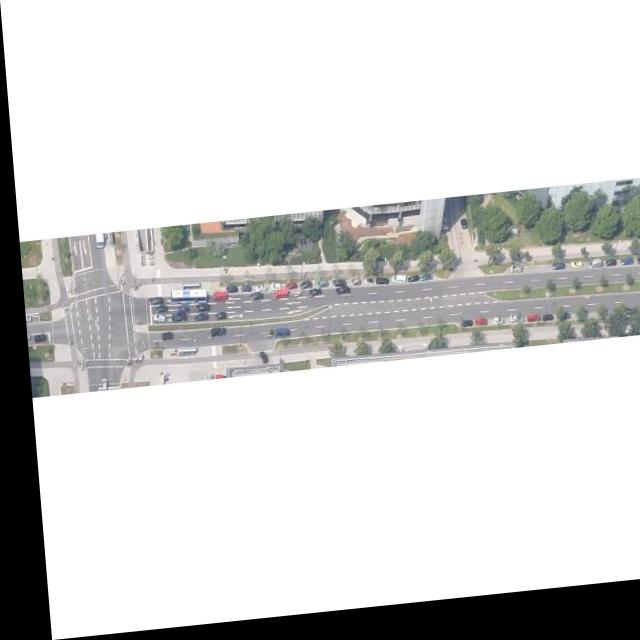vehicle: (503, 235, 515, 249), (166, 315, 181, 326), (208, 296, 223, 307), (582, 270, 597, 281), (386, 281, 401, 292), (503, 324, 518, 334), (205, 332, 221, 341), (189, 307, 205, 316), (28, 334, 42, 344), (267, 296, 282, 305), (302, 294, 317, 303), (329, 293, 344, 302), (148, 316, 161, 326), (294, 286, 307, 296), (253, 355, 262, 369), (143, 299, 157, 308), (326, 285, 340, 294), (370, 285, 385, 293), (310, 286, 322, 296), (270, 333, 283, 342), (189, 316, 202, 325), (244, 297, 257, 306), (455, 328, 468, 337), (280, 287, 292, 296), (504, 276, 517, 284), (266, 288, 277, 297), (156, 334, 167, 343), (565, 273, 577, 281), (250, 289, 262, 297), (521, 325, 534, 332), (546, 274, 559, 281), (414, 283, 427, 290), (150, 308, 161, 316), (210, 316, 221, 324), (536, 325, 547, 333), (615, 272, 627, 279), (236, 289, 246, 297), (469, 329, 480, 336), (485, 327, 496, 334), (403, 283, 414, 290), (95, 379, 101, 391), (359, 285, 368, 293), (173, 310, 183, 317), (601, 272, 611, 279), (222, 291, 232, 298), (631, 270, 640, 277), (456, 229, 462, 239), (344, 286, 354, 292), (260, 336, 268, 343), (286, 296, 295, 302)
